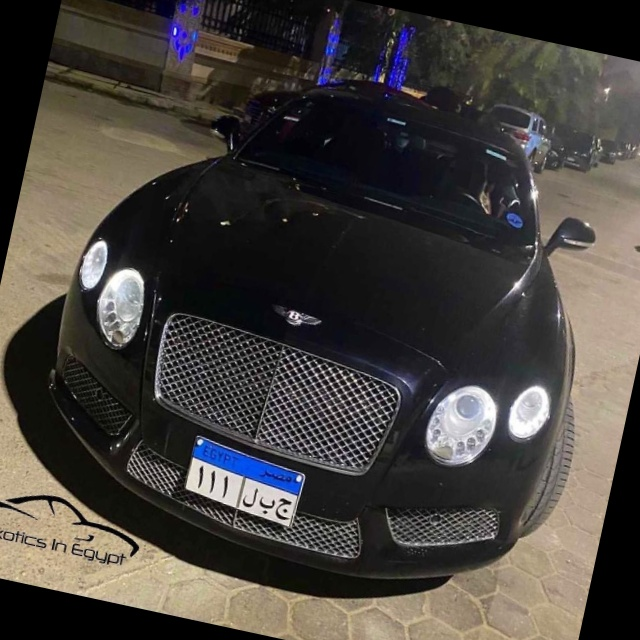License Plate: (174, 432, 310, 532)
